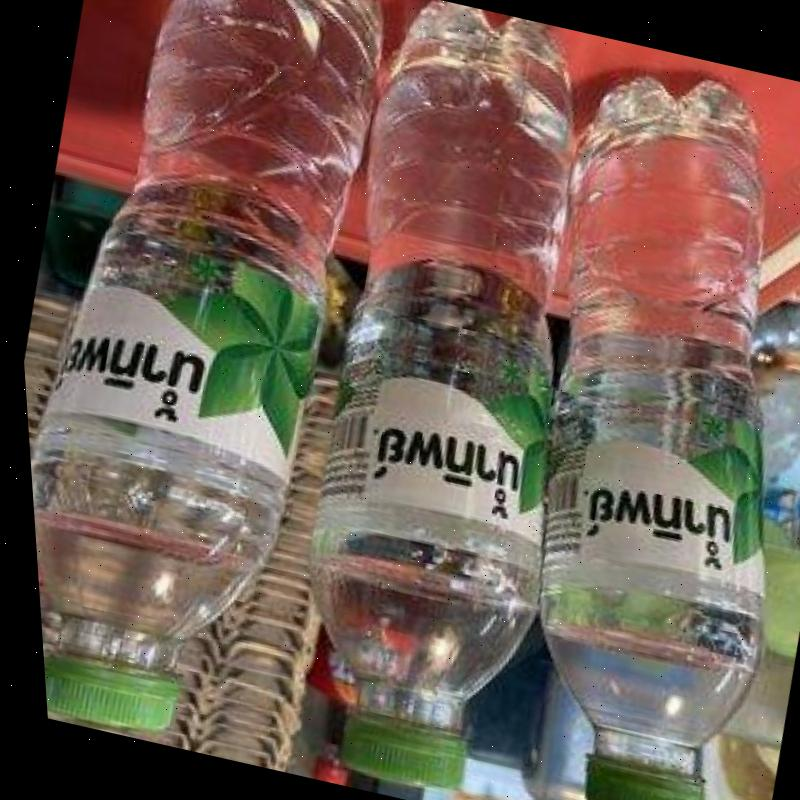botella: (212, 0, 666, 800), (0, 0, 428, 761), (409, 51, 800, 800)
